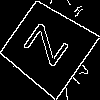Z: (23, 22, 78, 74)
